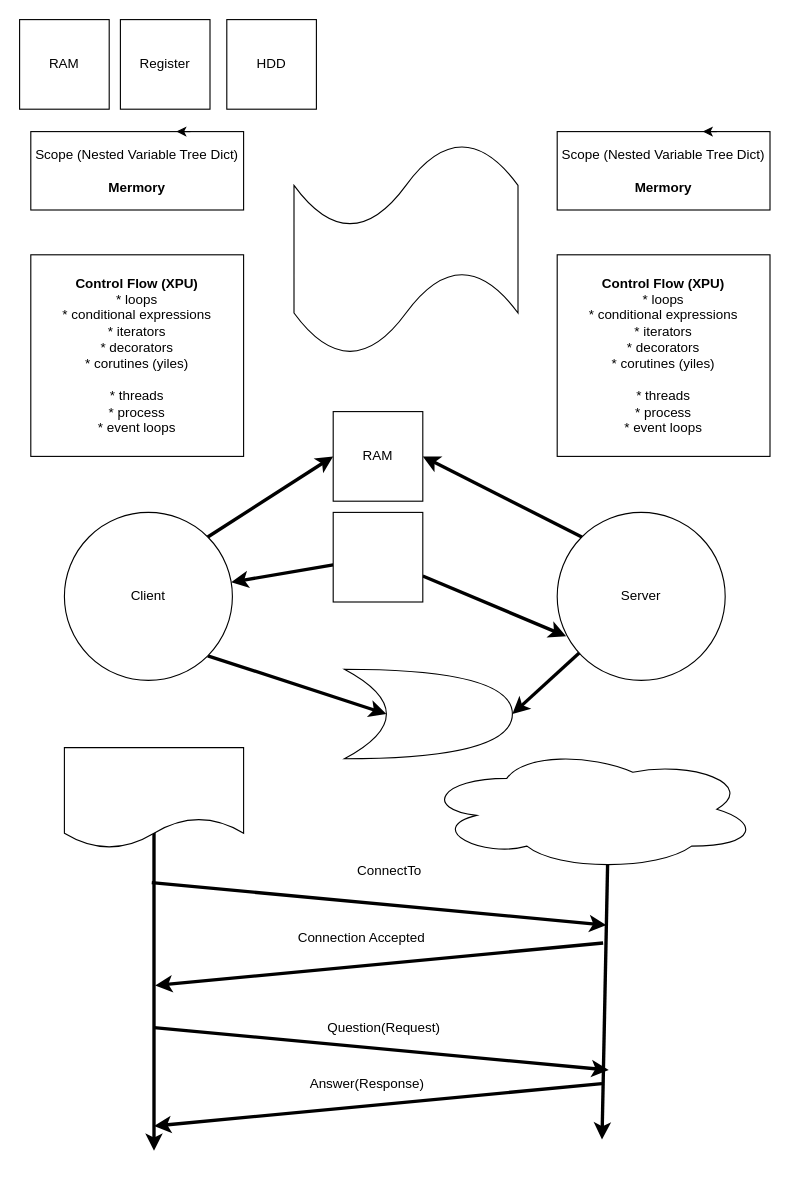
The diagram is 790 pixels wide and 1180 high, and some of its shapes have lost their labels. The centre of each missing label's shape, as x and y in pixels:
"Browser" belongs at (x=153, y=797).
"FileSystem" belongs at (x=377, y=556).
"Networking" belongs at (x=405, y=249).
"Socet(80)" belongs at (x=427, y=713).
"WebSite" belongs at (x=590, y=808).
